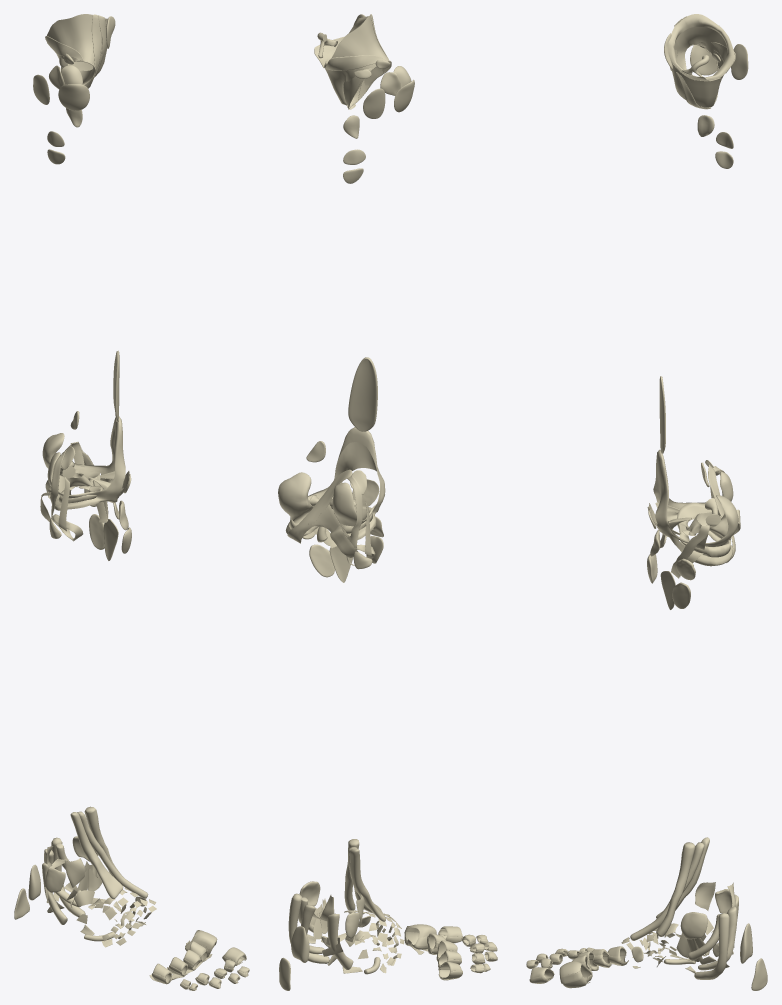
Rendered from joints.lower_limb_right.glb.
3 renders of one model, left to right at view 1: azimuth 90°, elevation 25°; view 2: azimuth 150°, elevation 25°; view 3: azimuth 270°, elevation 25°, orthographic. The views are drawn at different scales.
Visible parts, largest first — view 1: right_articular_capsule_of_knee_joint, right_articular_capsule_of_hip_joint, right_articular_capsules_of_metatarsophalangeal_joints, right_tendon_sheath_of_extensor_digitorum_longus, right_tendon_sheath_of_extensor_hallucis_longus, right_subcutaneous_trochanteric_bursa; view 2: right_articular_capsule_of_knee_joint, right_articular_capsule_of_hip_joint, right_suprapatellar_bursa, right_articular_capsules_of_metatarsophalangeal_joints, right_arcuate_popliteal_ligament, right_oblique_popliteal_ligament, right_tendon_sheath_of_extensor_digitorum_longus, right_ischiofemoral_ligament, right_anserine_bursa, right_tendon_sheath_of_flexor_digitorum_longus, right_frenula_capsulae, right_common_tendon_sheath_of_fibularis_muscles (+3 smaller); view 3: right_articular_capsule_of_knee_joint, right_articular_capsule_of_hip_joint, right_acetabular_labrum, right_articular_capsules_of_metatarsophalangeal_joints, right_tendon_sheath_of_tibialis_anterior, right_tendon_sheath_of_flexor_digitorum_longus, right_tendon_sheath_of_extensor_hallucis_longus, right_subcutaneous_bursa_of_medial_malleolus.
Boxes of the visible parts, bbox=[...] form: right_articular_capsule_of_knee_joint: bbox=[42, 416, 125, 510]; right_articular_capsule_of_hip_joint: bbox=[47, 14, 107, 84]; right_articular_capsules_of_metatarsophalangeal_joints: bbox=[153, 931, 217, 983]; right_tendon_sheath_of_extensor_digitorum_longus: bbox=[70, 812, 123, 899]; right_tendon_sheath_of_extensor_hallucis_longus: bbox=[77, 811, 148, 898]; right_subcutaneous_trochanteric_bursa: bbox=[58, 84, 89, 110]; right_articular_capsule_of_knee_joint: bbox=[278, 427, 385, 539]; right_articular_capsule_of_hip_joint: bbox=[324, 15, 388, 105]; right_suprapatellar_bursa: bbox=[348, 357, 377, 431]; right_articular_capsules_of_metatarsophalangeal_joints: bbox=[404, 924, 461, 979]; right_arcuate_popliteal_ligament: bbox=[308, 476, 362, 557]; right_oblique_popliteal_ligament: bbox=[287, 469, 352, 543]; right_tendon_sheath_of_extensor_digitorum_longus: bbox=[349, 848, 385, 921]; right_ischiofemoral_ligament: bbox=[325, 55, 386, 70]; right_anserine_bursa: bbox=[309, 544, 334, 577]; right_tendon_sheath_of_flexor_digitorum_longus: bbox=[288, 893, 329, 963]; right_frenula_capsulae: bbox=[343, 62, 390, 107]; right_common_tendon_sheath_of_fibularis_muscles: bbox=[327, 913, 353, 969]; right_articular_capsule_of_knee_joint: bbox=[653, 449, 738, 566]; right_articular_capsule_of_hip_joint: bbox=[670, 26, 726, 107]; right_acetabular_labrum: bbox=[668, 14, 734, 79]; right_articular_capsules_of_metatarsophalangeal_joints: bbox=[559, 946, 625, 988]; right_tendon_sheath_of_tibialis_anterior: bbox=[656, 842, 695, 936]; right_tendon_sheath_of_flexor_digitorum_longus: bbox=[694, 913, 729, 979]; right_tendon_sheath_of_extensor_hallucis_longus: bbox=[630, 842, 704, 940]; right_subcutaneous_bursa_of_medial_malleolus: bbox=[680, 912, 707, 939].
Size of the model in its own units: 0.1391 by 0.9101 by 0.2051.
